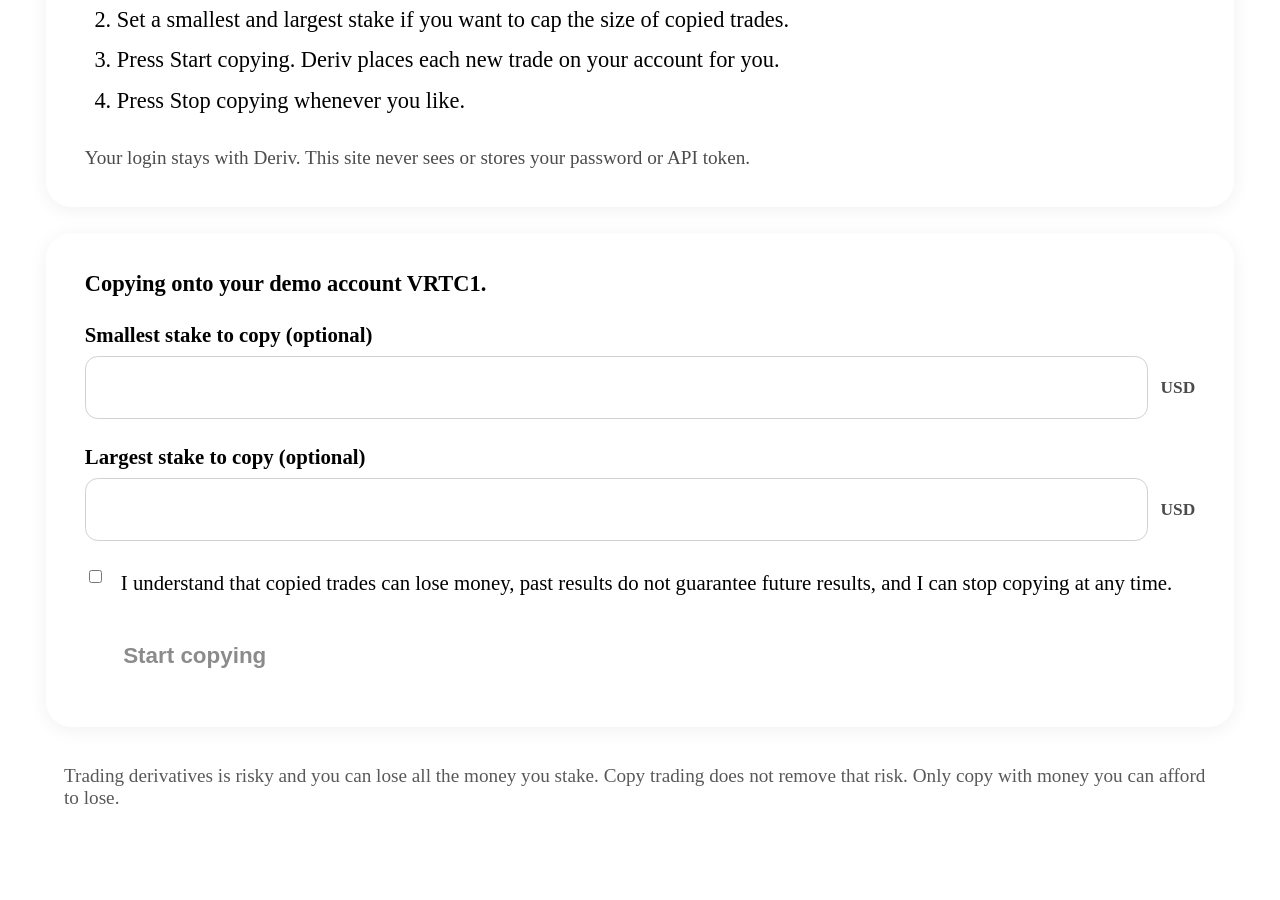
Test case: <CopyTrading /> › shows Deriv's error and stays stopped when copy_start fails
This screenshot has width=1280, height=900.
(page scrolled)
expect the button with test id "dt_copy_start" is shown: met, box [85,624,305,688]
What coordinates should you click on to do the following:
click the checkbox with test id "dt_copy_consent"
I would click on:
 (95, 576)
Its box is [89,570,102,583].
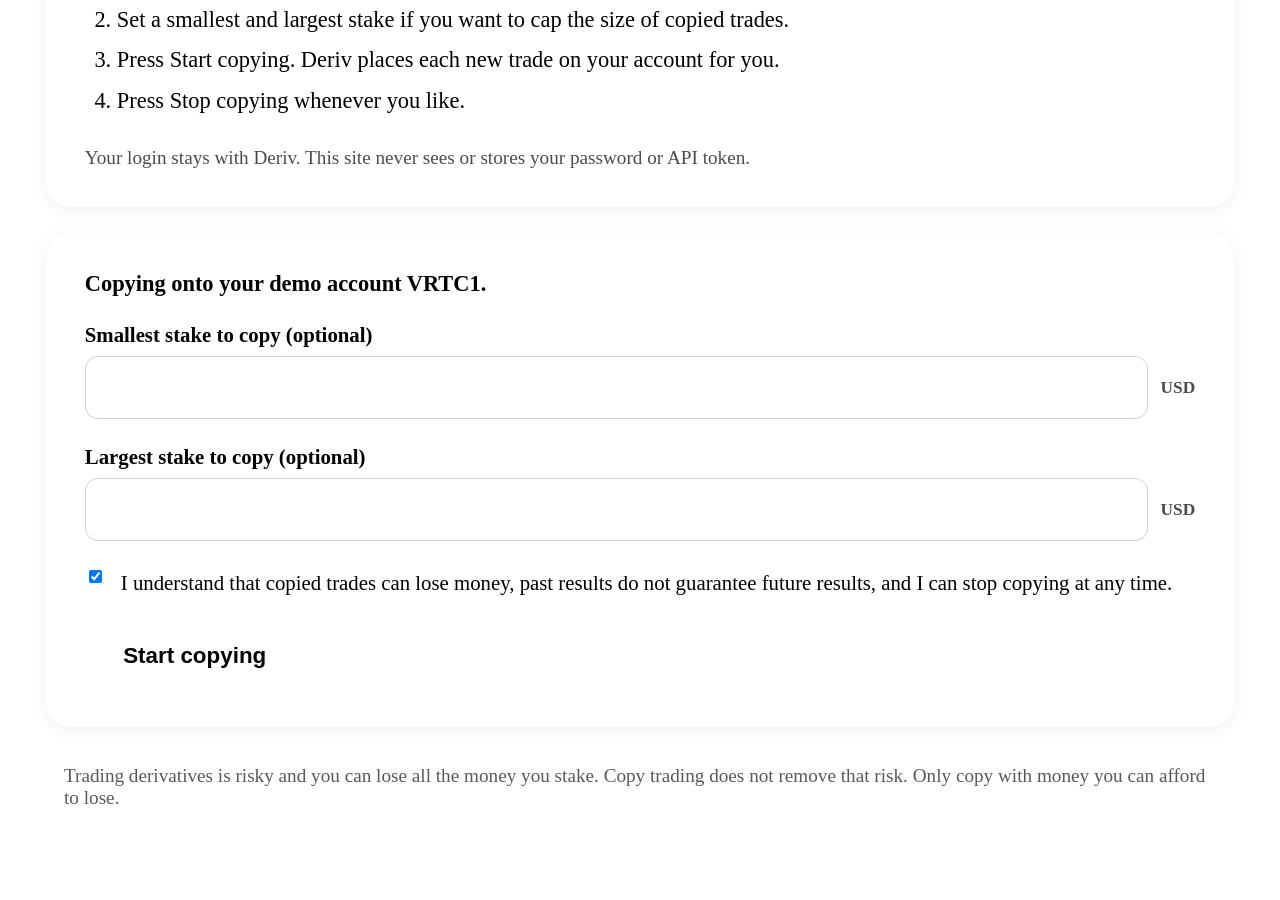
What coordinates should you click on to do the following:
click the button with test id "dt_copy_start"
I would click on:
 (195, 656)
Its box is [85,624,305,688].
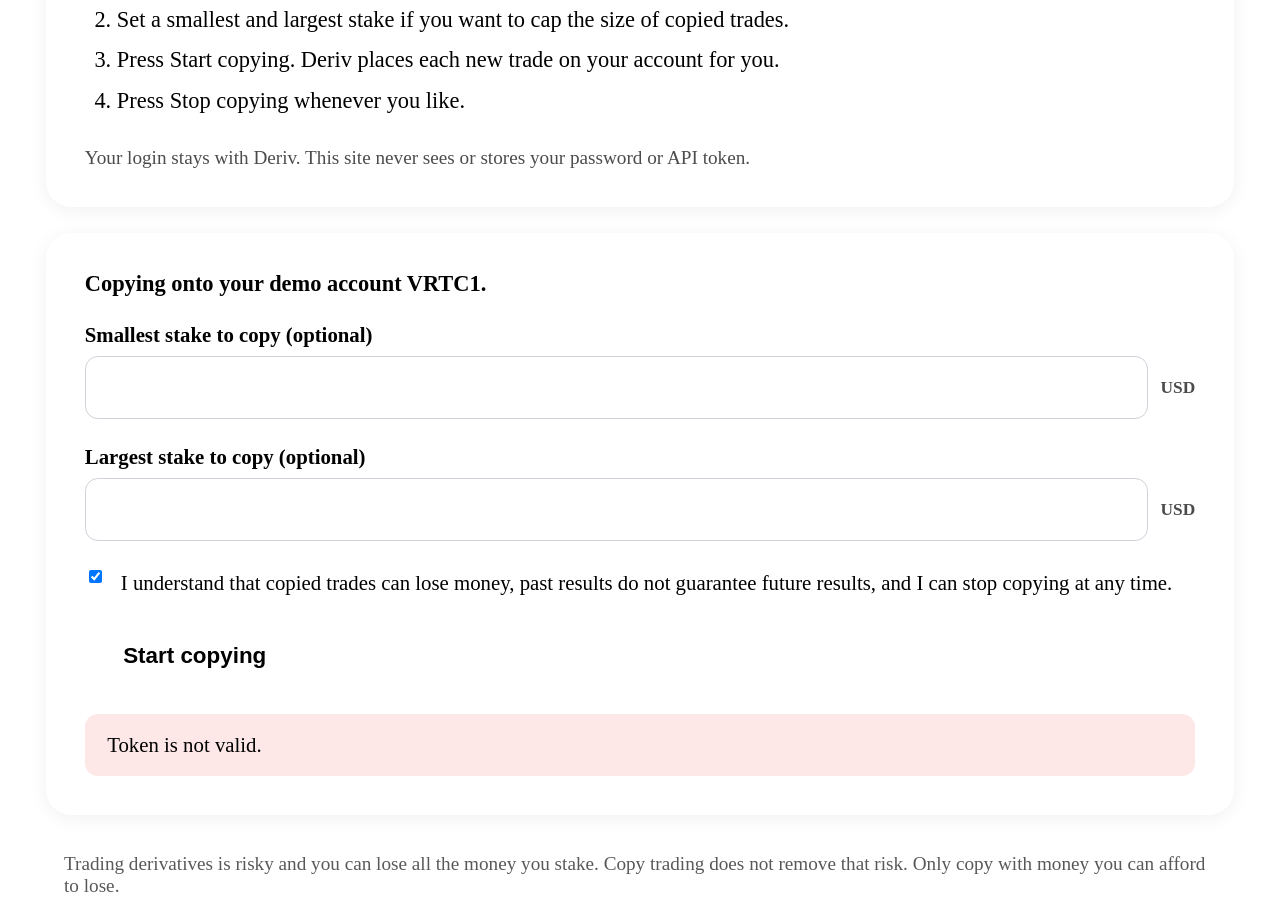
expect the message with test id "dt_copy_message" reads "Token is not valid.": met, box [107,733,262,756]
